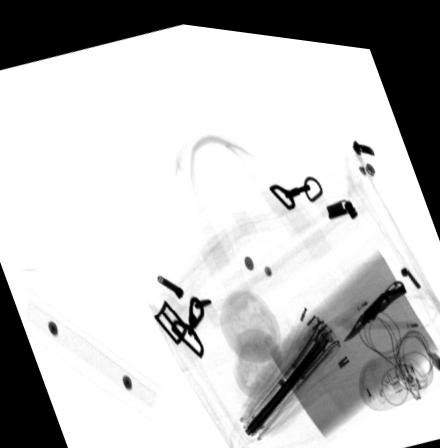Knife: (342, 267, 407, 332)
